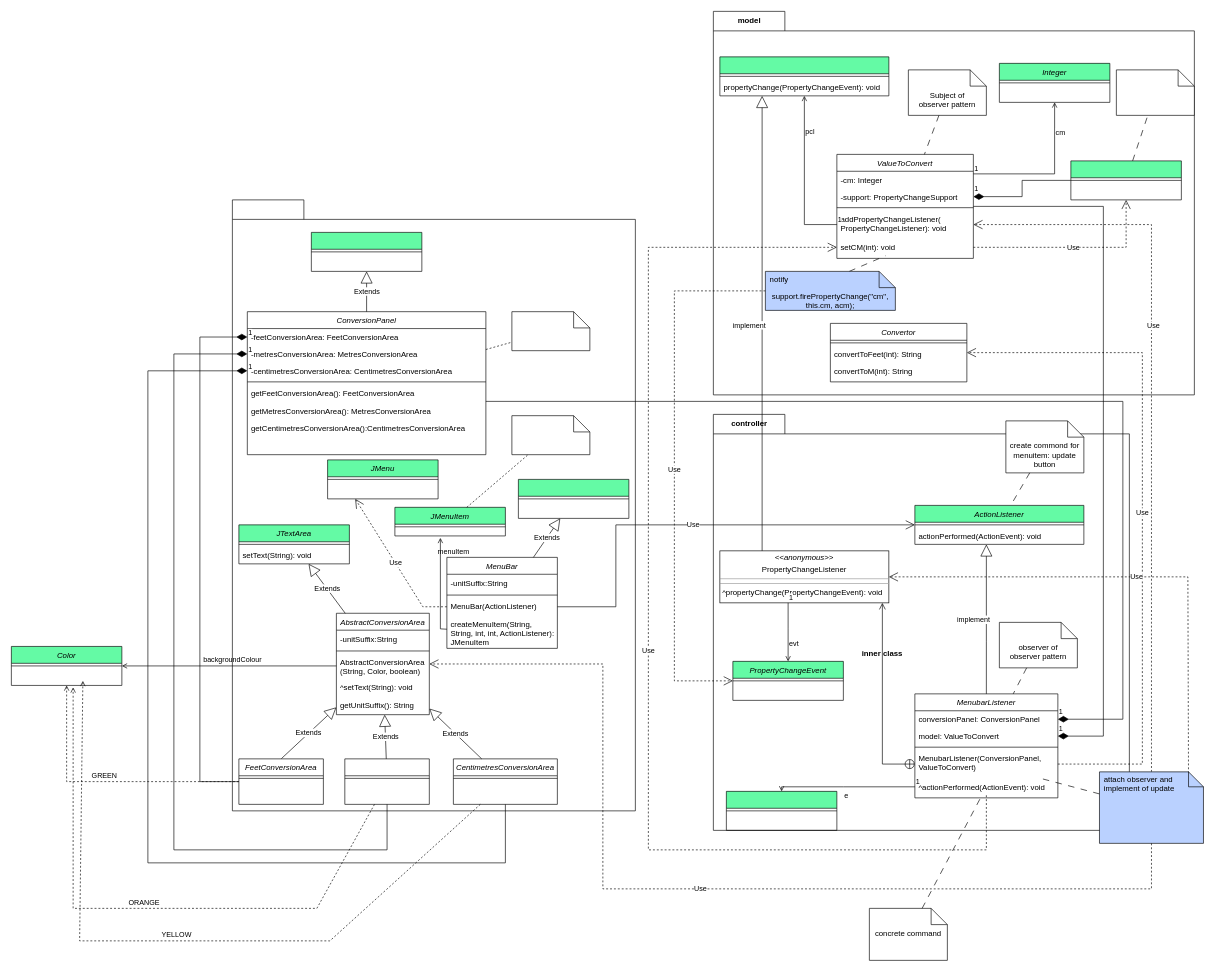
Image size: 1215x972. Some labels were removed from this diagram. Here are the shapes that lost their labels. From the top down, the box of each, then its label:
(719, 56, 889, 96): PropertyChangeListener
(1116, 69, 1194, 115): middle helper of observer pattern
(1070, 160, 1181, 200): PropertyChangeSupport
(311, 232, 422, 271): JPanel
(511, 311, 590, 351): Receiver
(511, 415, 590, 455): Invoker
(232, 199, 635, 811): view
(518, 479, 629, 518): JMenuBar
(344, 758, 429, 804): MetresConversionArea
(726, 791, 837, 830): ActionEvent
(1099, 771, 1203, 843): model.addProperty ChangeListener (PropertyChangeListener)
